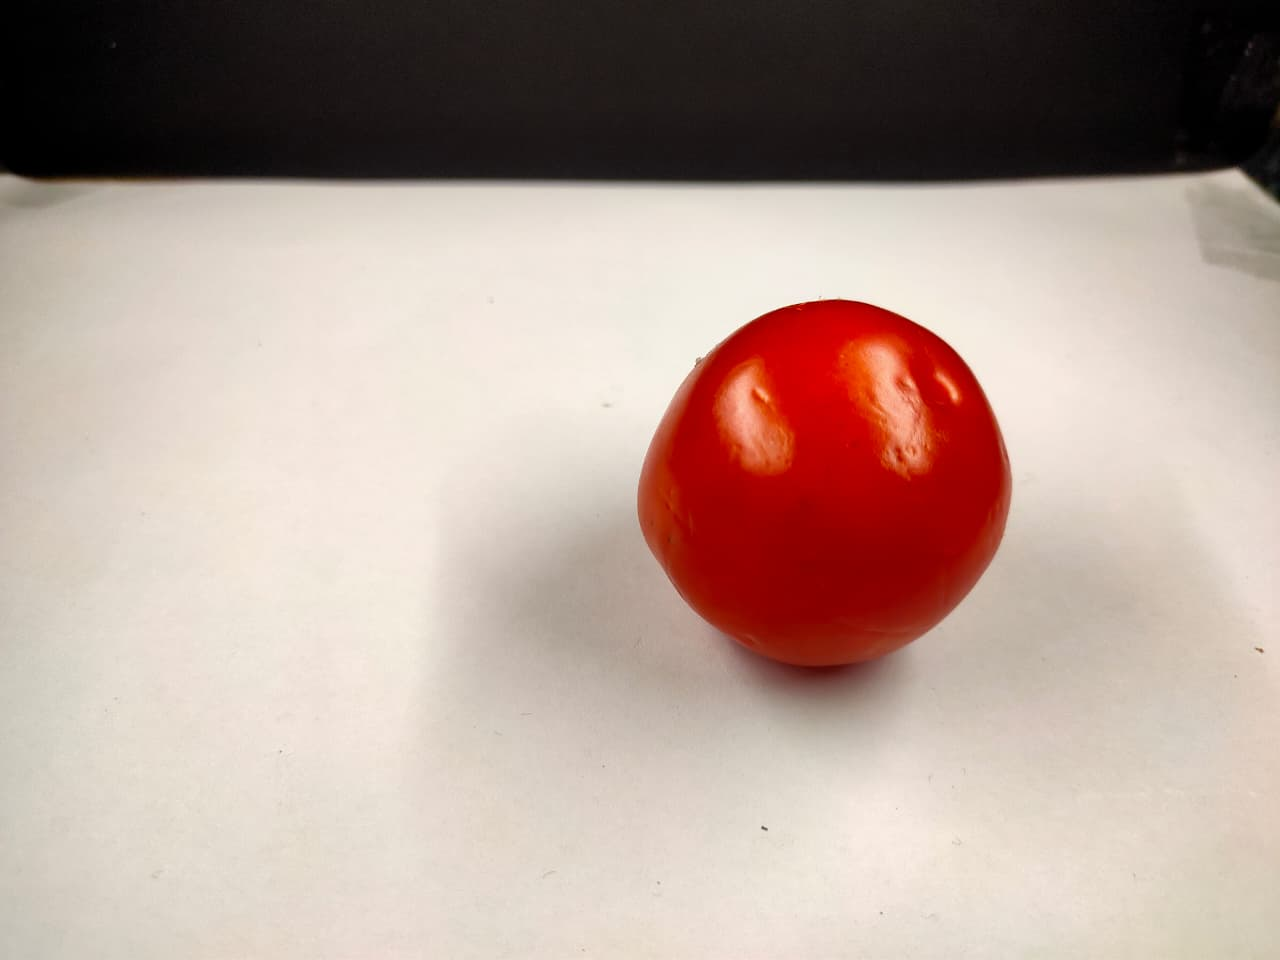ripe: (630, 291, 1034, 696)
